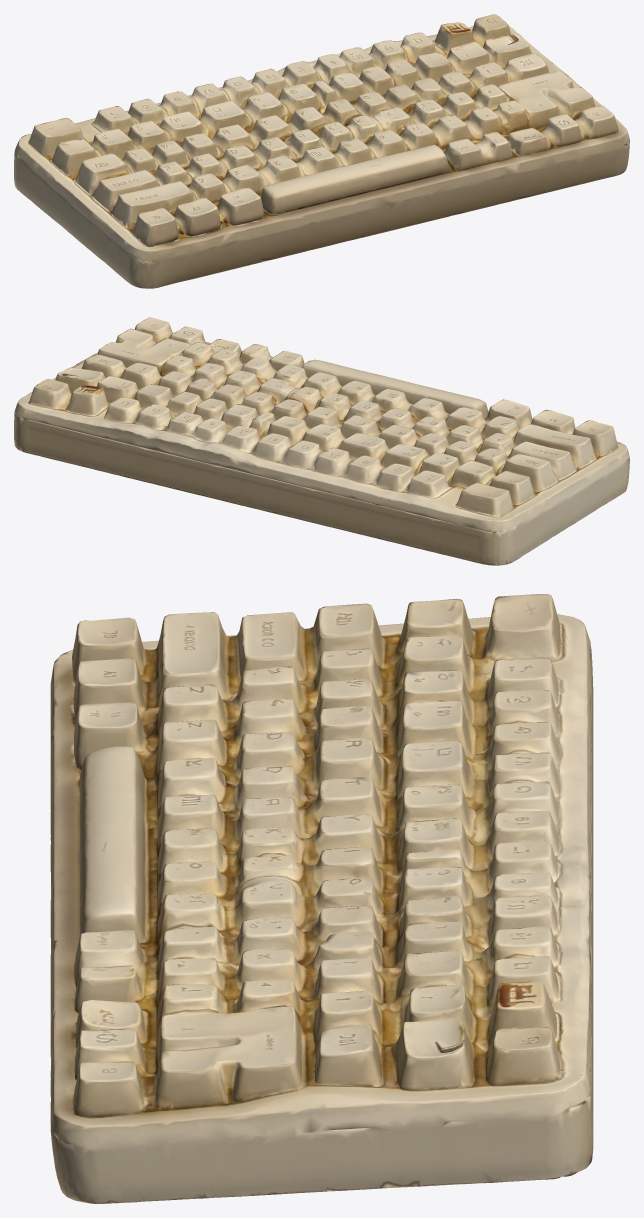
Rendered from keyboard.glb.
The picture shows the model from 3 angles, top to bottom: view 1: azimuth 30°, elevation 25°; view 2: azimuth 150°, elevation 25°; view 3: azimuth 270°, elevation 25°; orthographic projection. The views are drawn at different scales.
Visible parts, largest first — view 1: tripo_node_cafe4b9a-cb21-46cb-a879-c5739277b95d; view 2: tripo_node_cafe4b9a-cb21-46cb-a879-c5739277b95d; view 3: tripo_node_cafe4b9a-cb21-46cb-a879-c5739277b95d.
Boxes of the visible parts, x1,y1,x2,y2 form: tripo_node_cafe4b9a-cb21-46cb-a879-c5739277b95d: (14, 14, 629, 288); tripo_node_cafe4b9a-cb21-46cb-a879-c5739277b95d: (14, 317, 629, 565); tripo_node_cafe4b9a-cb21-46cb-a879-c5739277b95d: (50, 594, 593, 1203).
Bounding box in the file's own units: 1 × 0.1474 × 0.4724.
Materials: 1 (1 with a texture image).
